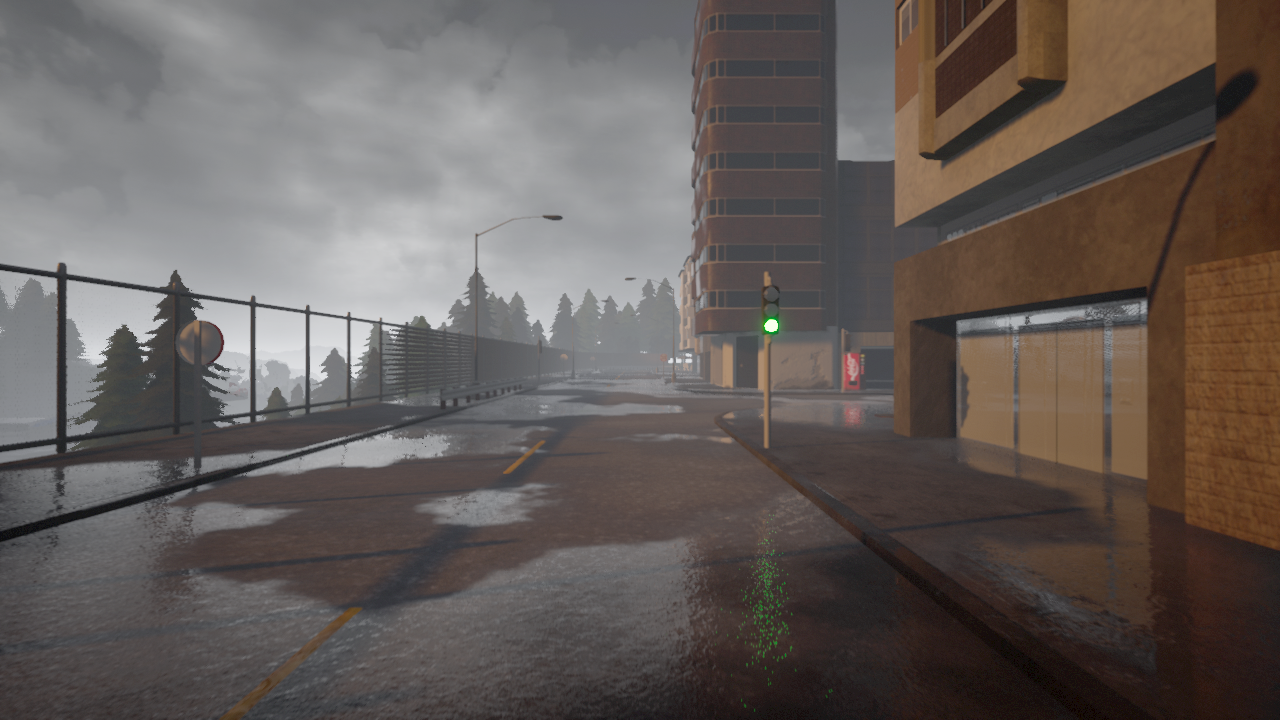green: (760, 285, 782, 338)
